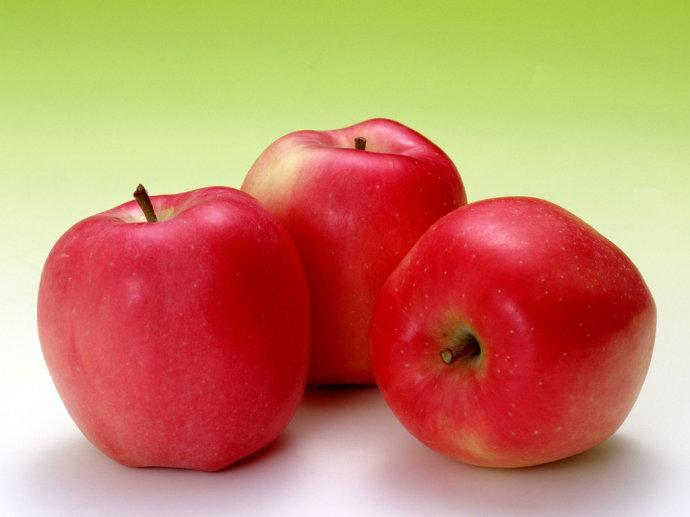apple: (371, 187, 656, 469), (36, 185, 309, 474), (236, 119, 461, 386)
